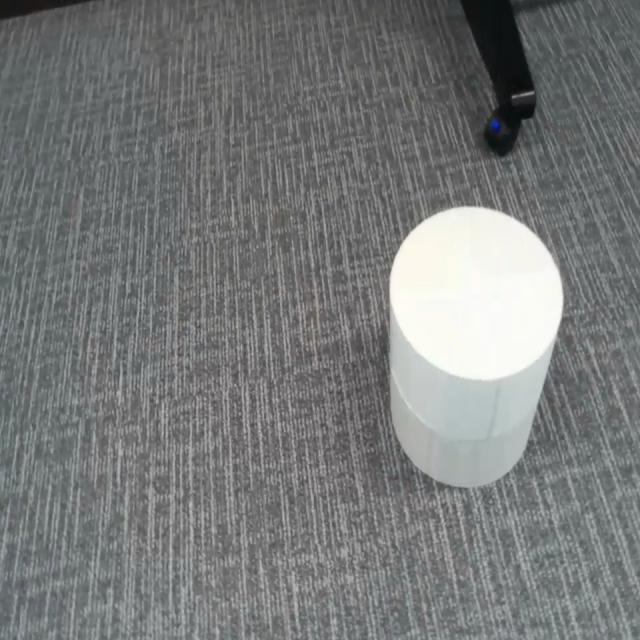cylinder: (387, 202, 564, 490)
